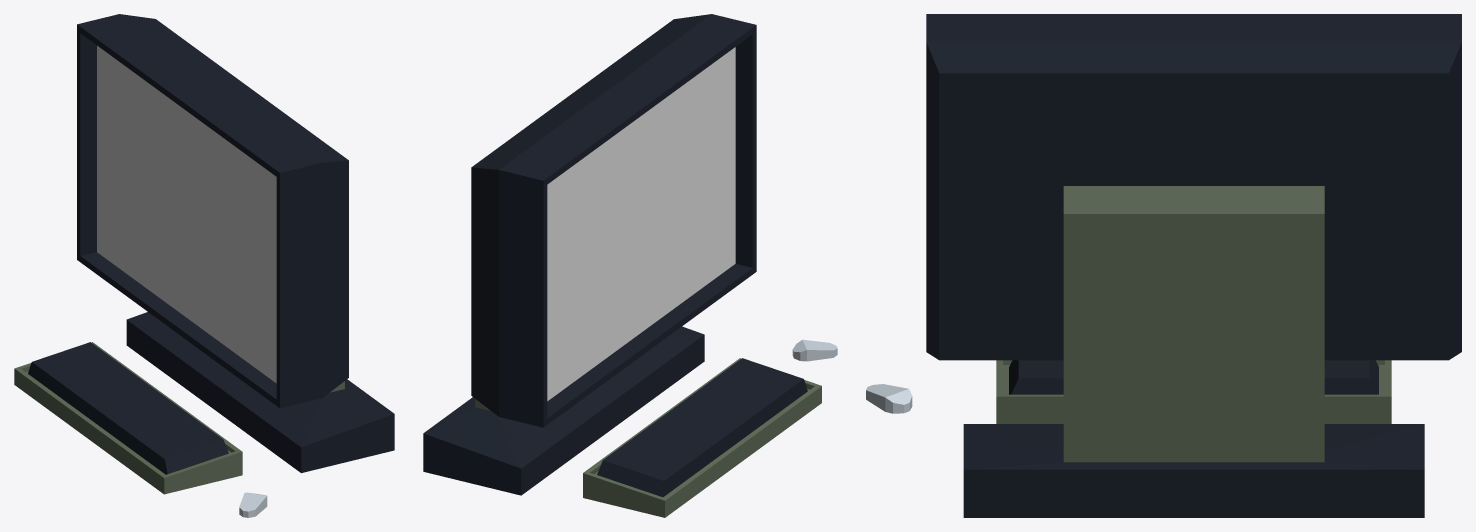
The picture shows the model from 3 angles, left to right: view 1: azimuth 30°, elevation 25°; view 2: azimuth 150°, elevation 25°; view 3: azimuth 270°, elevation 25°; orthographic projection. The views are drawn at different scales.
Visible parts, largest first — view 1: Computador; view 2: Computador; view 3: Computador.
Part boxes in pixels (x1=…): Computador: x1=14, y1=14, x2=394, y2=517; Computador: x1=423, y1=14, x2=837, y2=517; Computador: x1=866, y1=14, x2=1461, y2=517.
Bounding box in the file's own units: 128 × 180 × 230.
1 material, 1 textured.
